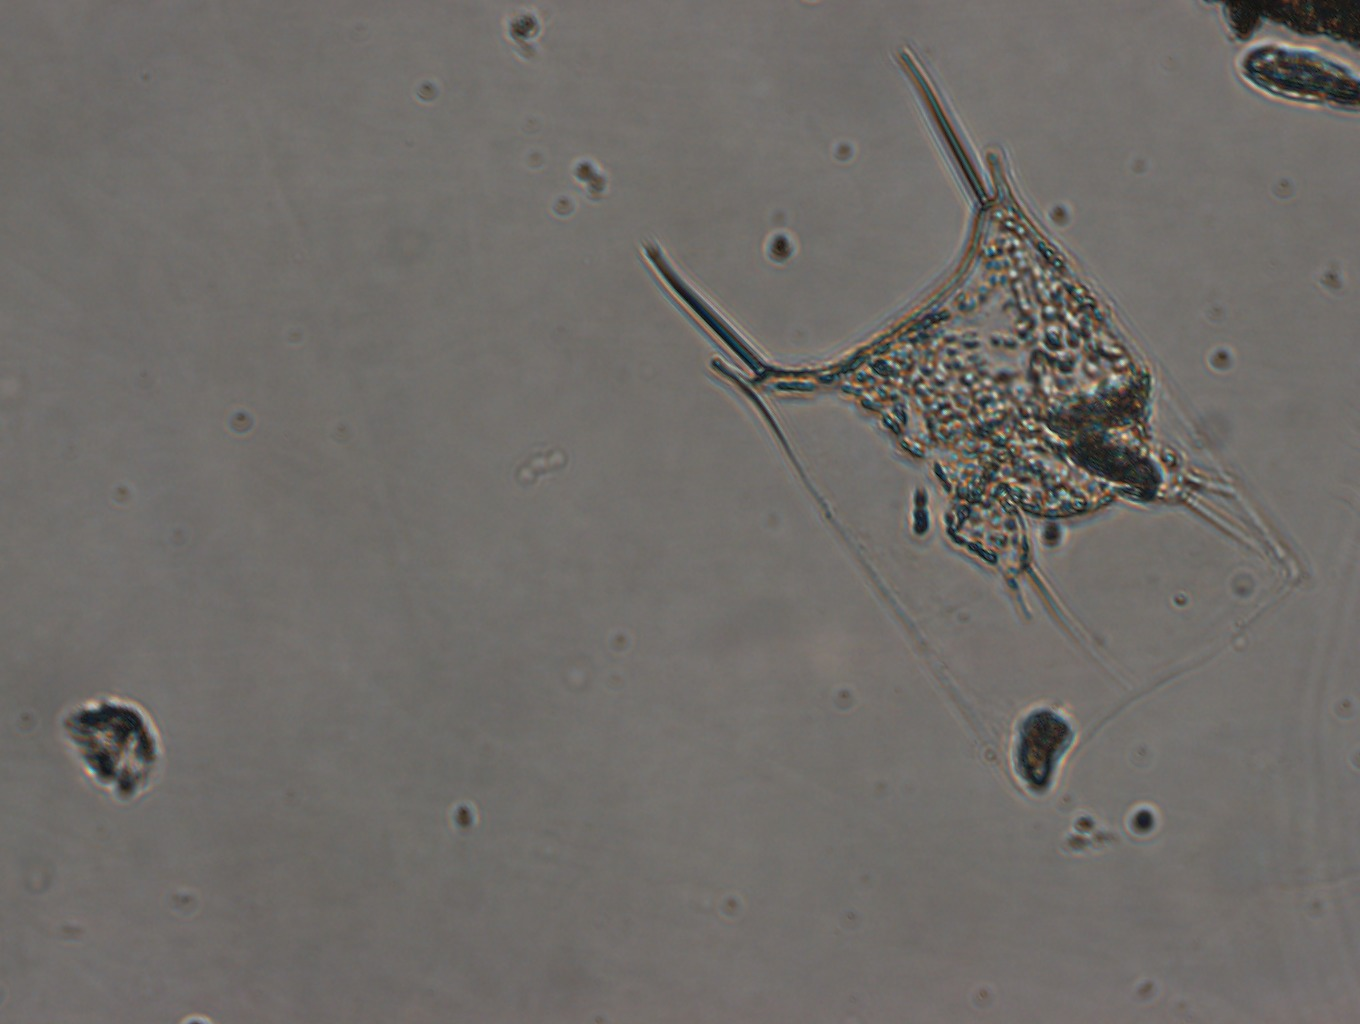biddulphia: (640, 42, 1309, 803)
